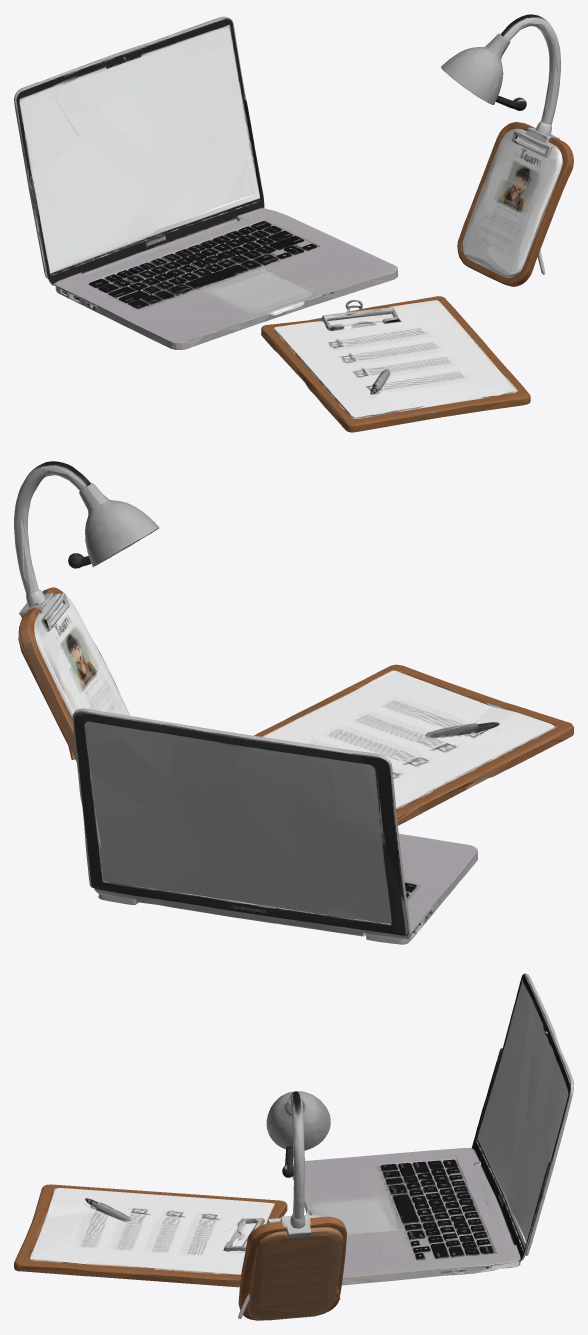
The model's file is ws_lead.glb.
The picture shows the model from 3 angles, top to bottom: view 1: azimuth 30°, elevation 25°; view 2: azimuth 150°, elevation 25°; view 3: azimuth 270°, elevation 25°; orthographic projection. The views are drawn at different scales.
Bounding box in the file's own units: 1.65 × 0.9113 × 1.9.
Materials: 1 (1 with a texture image).
